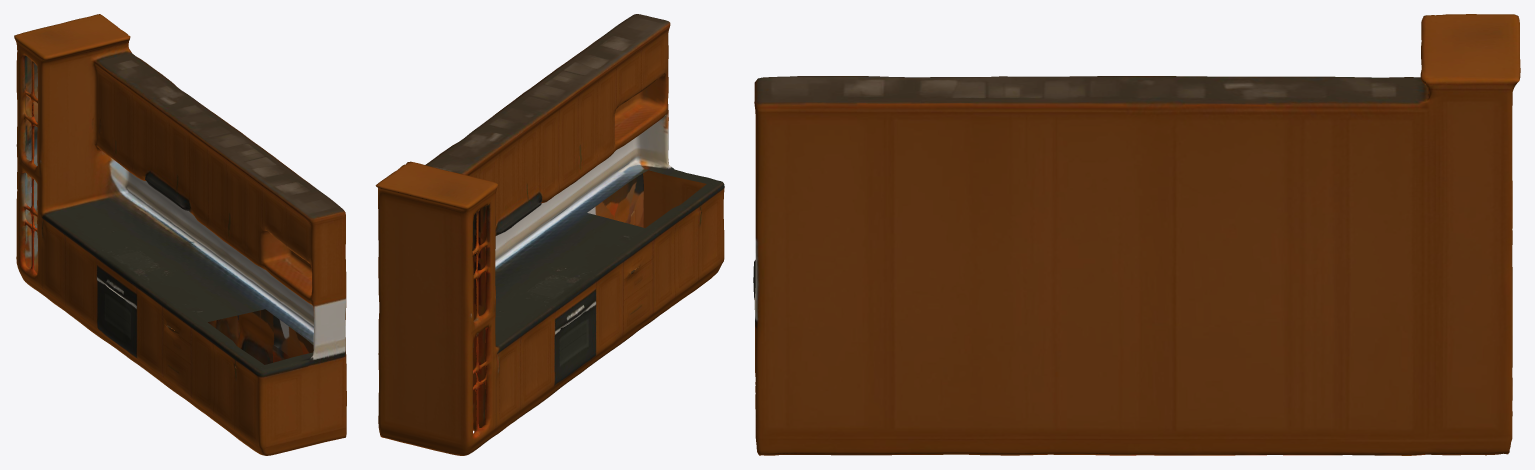
Rendered from Kitchen_Cabinet.fbx.
The picture shows the model from 3 angles, left to right: view 1: azimuth 30°, elevation 25°; view 2: azimuth 150°, elevation 25°; view 3: azimuth 270°, elevation 25°; orthographic projection. The views are drawn at different scales.
Parts seen in each view (by area): view 1: Kitchen_Cabinet; view 2: Kitchen_Cabinet; view 3: Kitchen_Cabinet.
Part boxes in pixels (<box>): Kitchen_Cabinet: <box>14,14,346,455</box>; Kitchen_Cabinet: <box>375,14,724,455</box>; Kitchen_Cabinet: <box>753,14,1520,455</box>.
Bounding box in the file's own units: 99.1 × 257 × 473.
